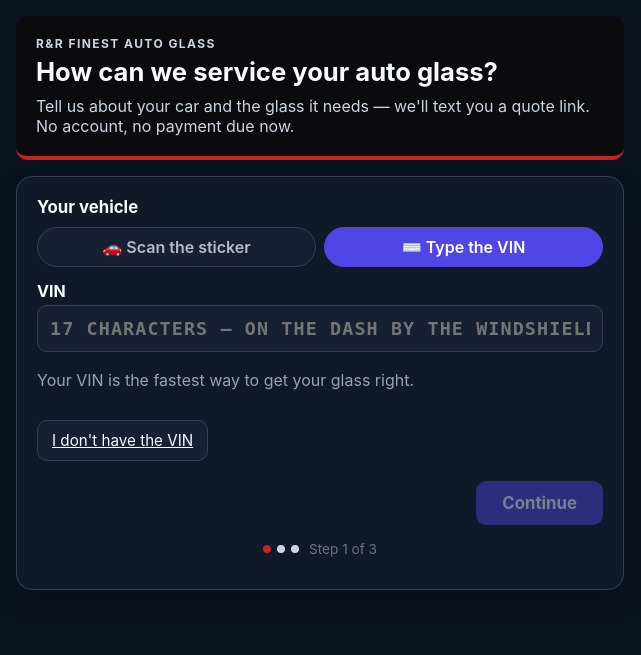
Test: public intake page (QR front door) › gates card 1 on a valid VIN or the 'I don't have the VIN' expander with complete YMM
Expected: the button "Continue" is disabled, x1=476 y1=481 x2=603 y2=525
A typed VIN with a bad check digit does not open the gate.
Replace the text in the field labelled "VIN" with "1HGCM82633A004353" at [320, 328], box x1=37 y1=305 x2=603 y2=352
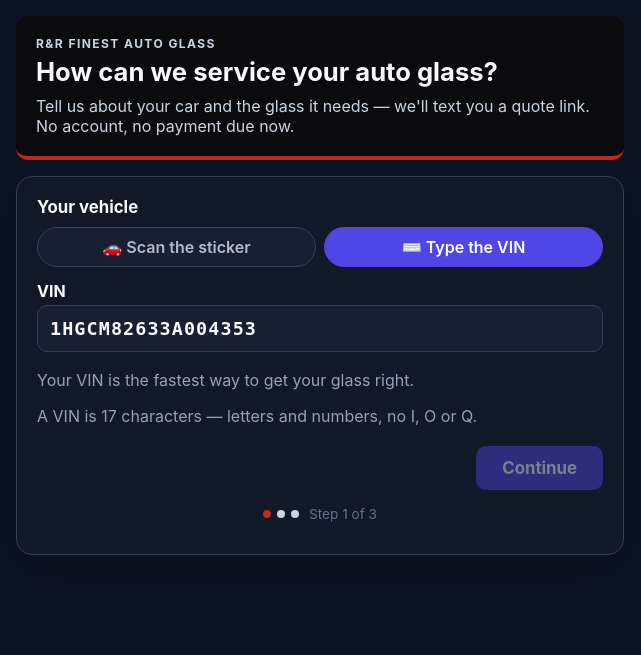
Expected: the button "Continue" is disabled, x1=476 y1=446 x2=603 y2=490
The expander is the only way YMM ever appears.
Clear the field labelled "VIN" at [320, 328], box x1=37 y1=305 x2=603 y2=352
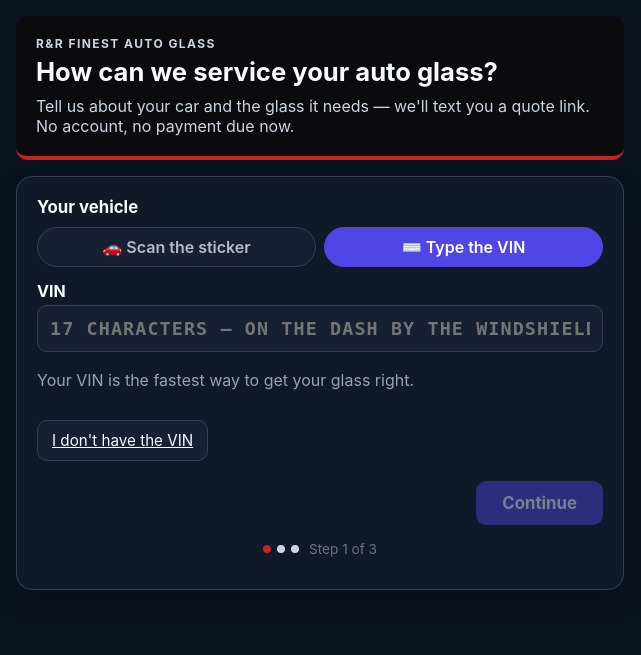
Click the button "I don't have the VIN" at [123, 440], box x1=37 y1=420 x2=208 y2=461
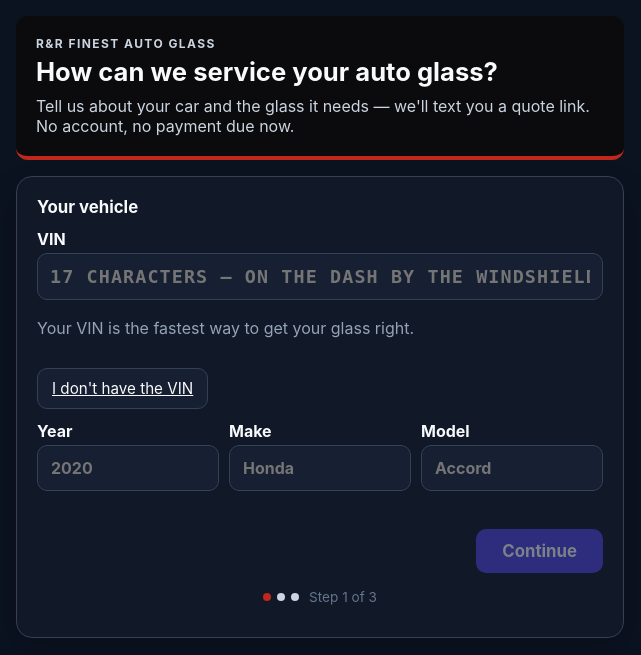
Expected: the button "Continue" is disabled, x1=476 y1=529 x2=603 y2=573
Expected: the field labelled "Year" is shown
Type "2023" into the field labelled "Year" at [128, 468], box x1=37 y1=445 x2=219 y2=491
Type "Volkswagen" into the field labelled "Make" at [320, 468], box x1=229 y1=445 x2=411 y2=491
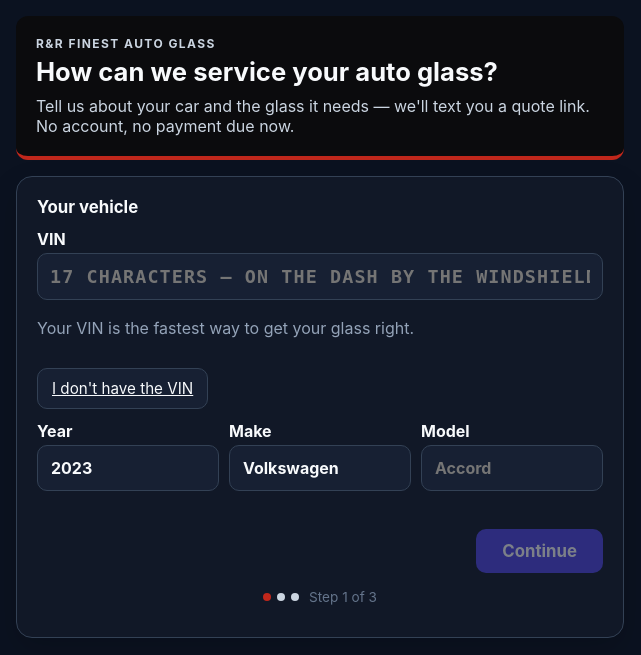
Type "ID.4" into the field labelled "Model" at [512, 468], box x1=421 y1=445 x2=603 y2=491
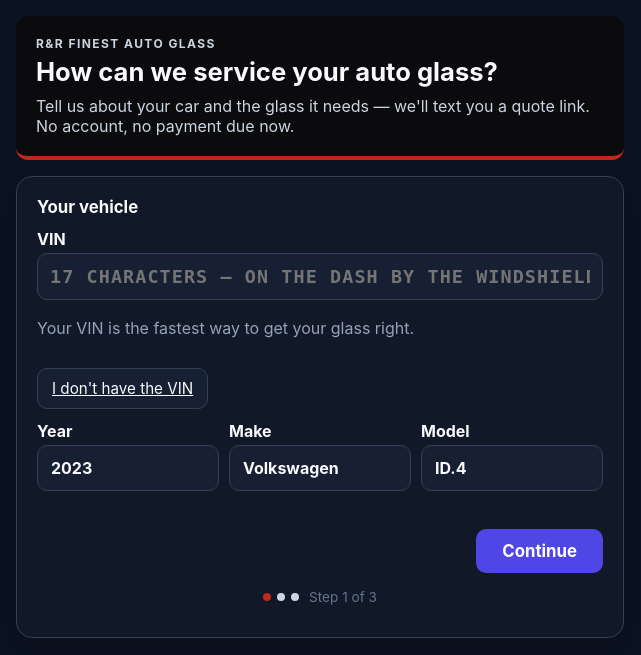
Expected: the button "Continue" is enabled, x1=476 y1=529 x2=603 y2=573
An entered VIN hides YMM again — they never show together.
Replace the text in the field labelled "VIN" with "1HGCM82633A004352" at [320, 276], box x1=37 y1=253 x2=603 y2=300
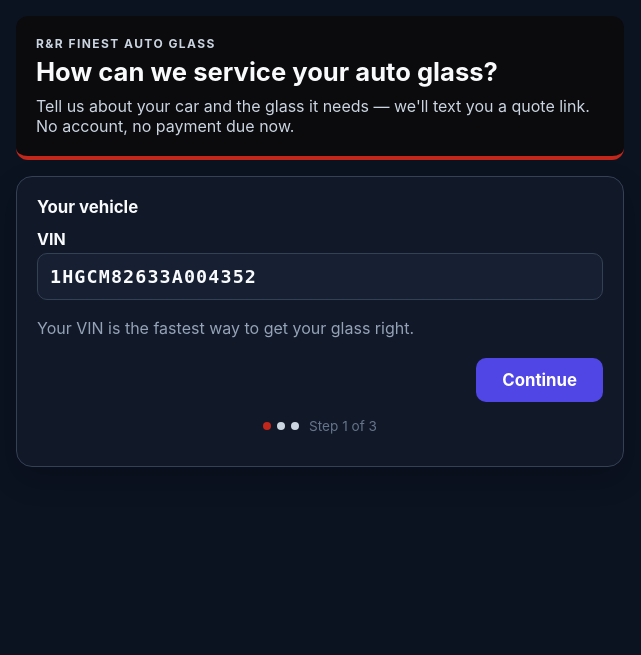
Expected: the button "Continue" is enabled, x1=476 y1=358 x2=603 y2=402
Expected: the label labelled "Year" is gone
